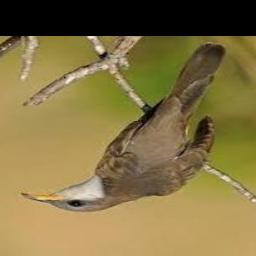Cuckoo: (21, 43, 230, 211)
